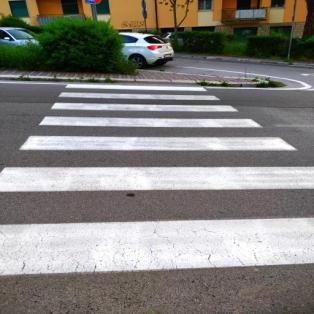Paso de Cebra: (0, 164, 314, 287), (14, 114, 301, 154)
